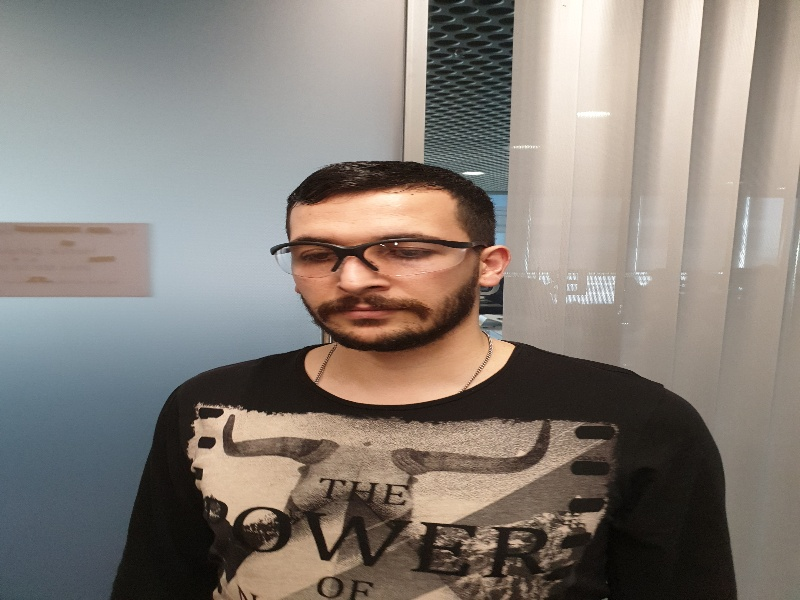Gozluk: (271, 238, 484, 273)
